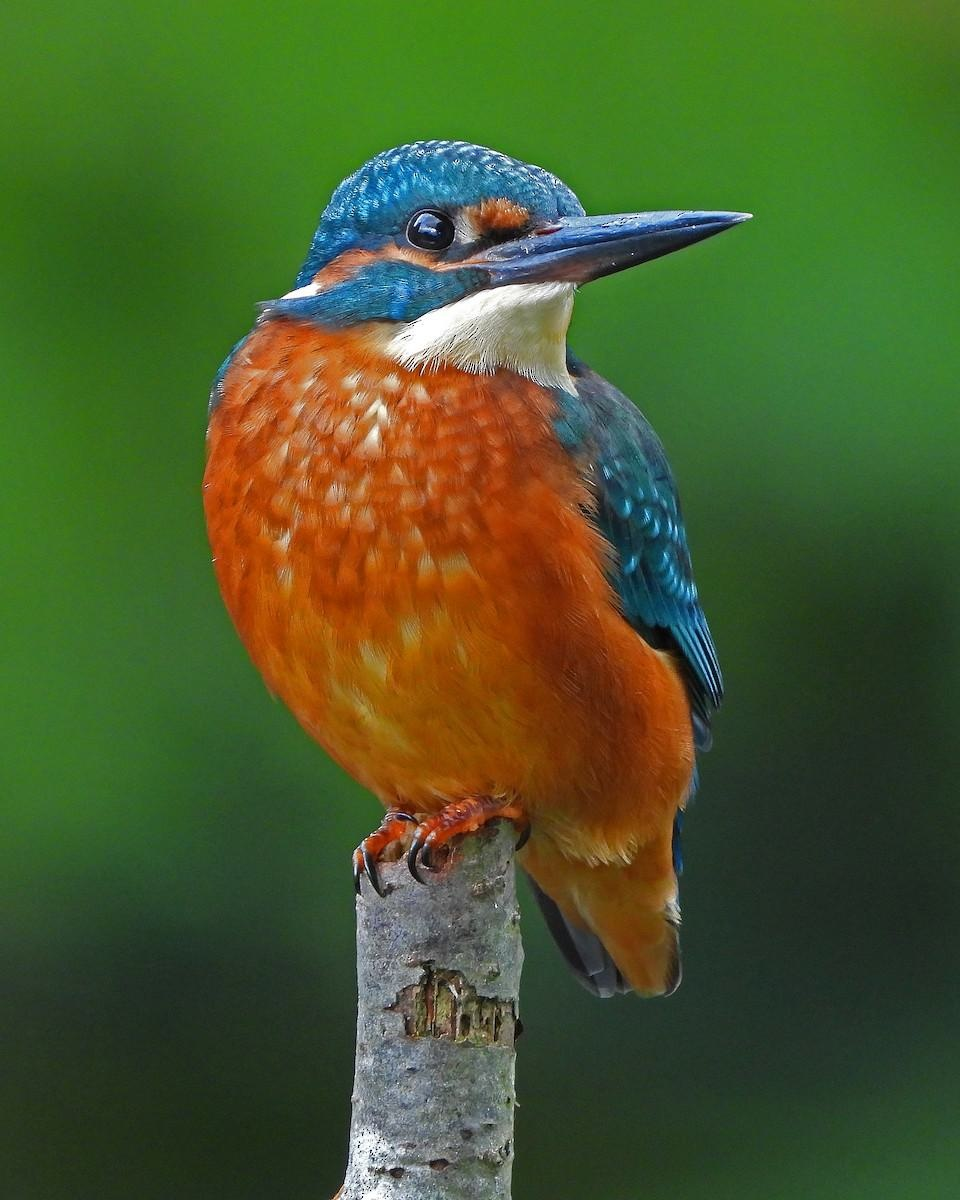kingfisher: (183, 102, 803, 1006)
